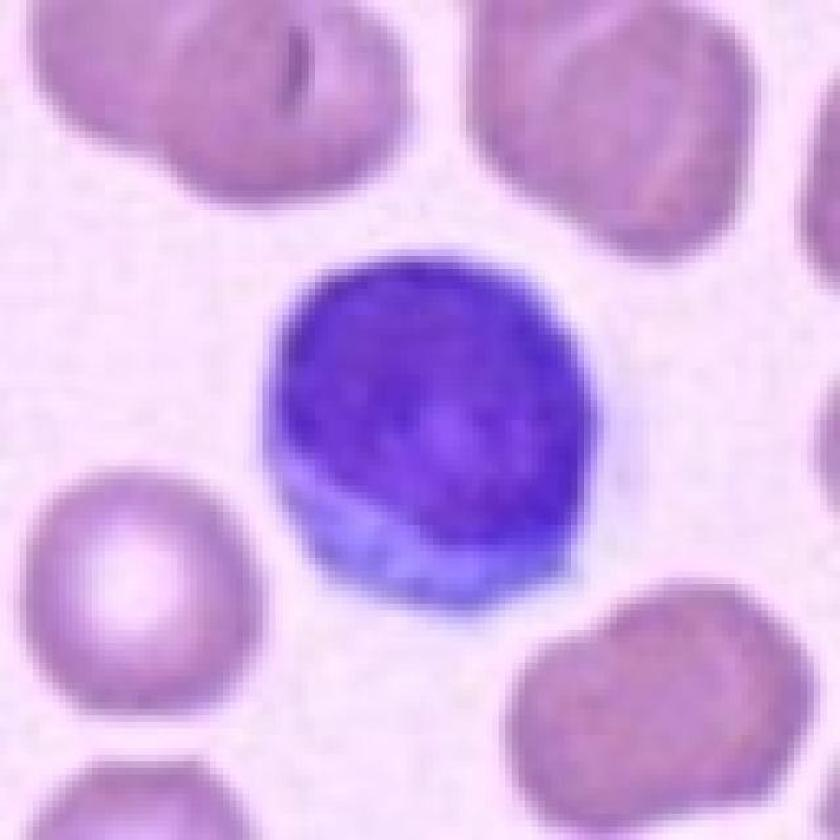lymphocyte: (259, 249, 612, 621)
